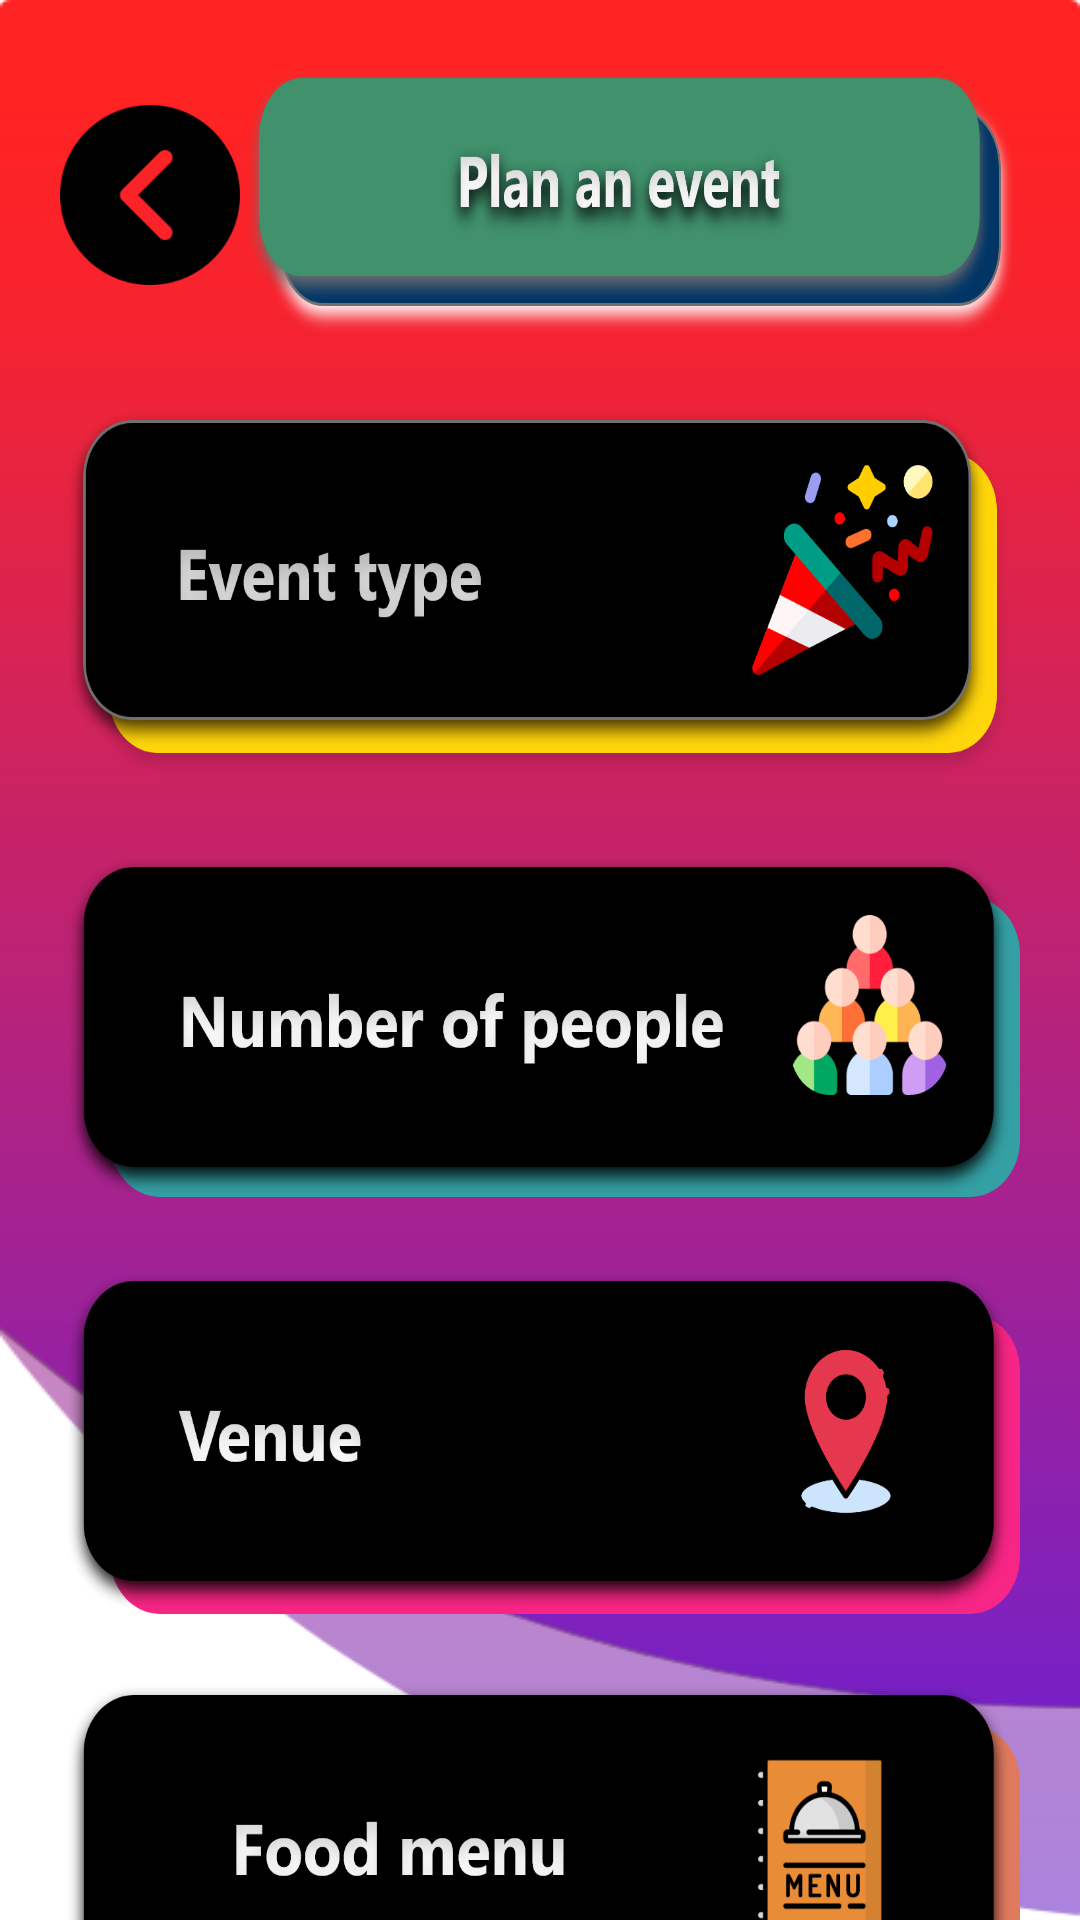

Named icons in this screenshot (1080px x 1920px) and their centers, [x,y]:
previous: [150,195]
